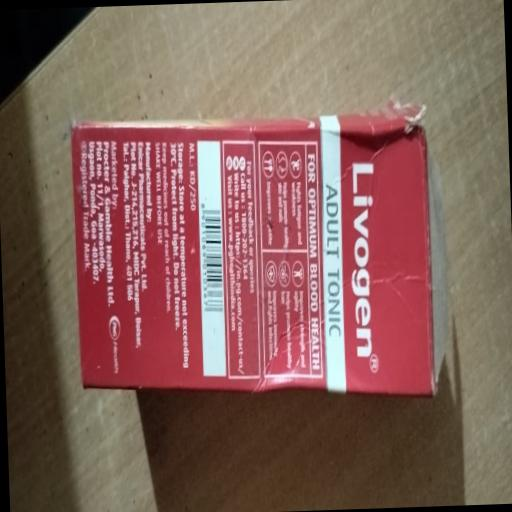Livogen: (44, 65, 478, 439)
